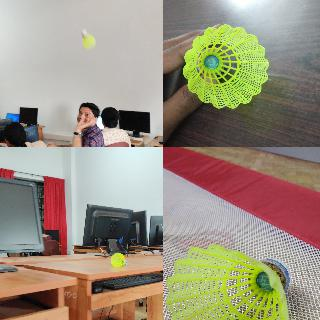shuttlecock: (166, 244, 292, 319), (182, 24, 268, 108), (80, 28, 96, 50), (110, 252, 126, 268)
